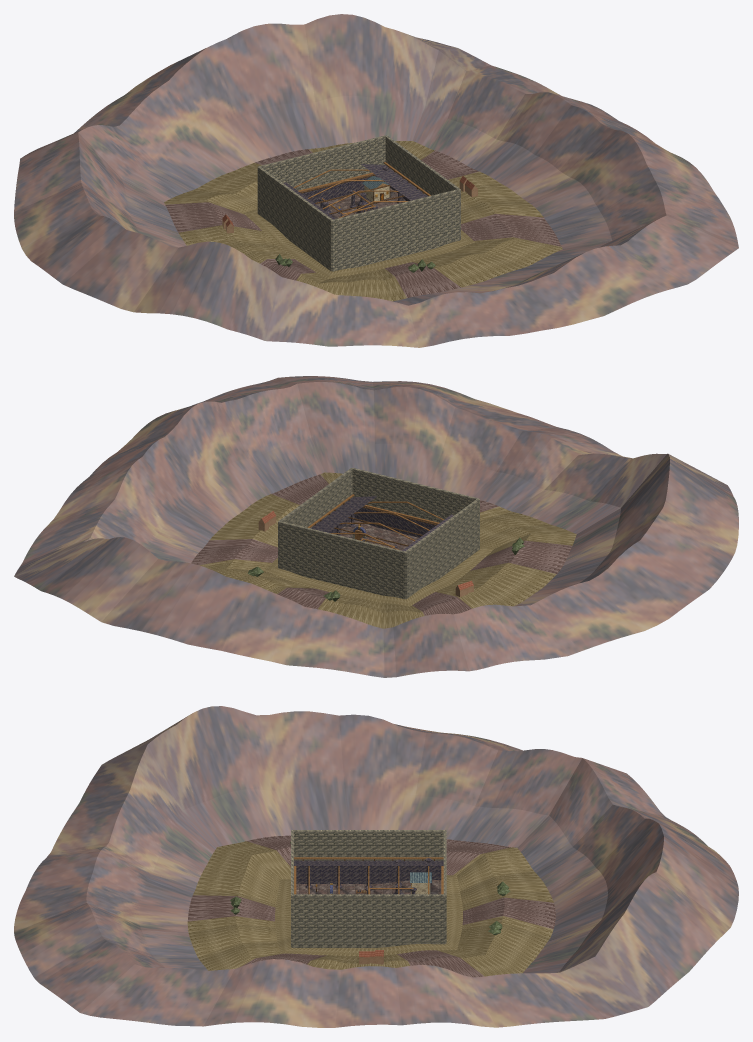
Rendered from CastingBed.fbx.
The picture shows the model from 3 angles, top to bottom: view 1: azimuth 30°, elevation 25°; view 2: azimuth 150°, elevation 25°; view 3: azimuth 270°, elevation 25°; orthographic projection. The views are drawn at different scales.
Parts seen in each view (by area): view 1: Surroundings, C_Solids, Rim, Set, Terrain; view 2: Surroundings, C_Solids, Rim, Terrain; view 3: Surroundings, C_Solids, Rim, Terrain, Set.
Part boxes in pixels (left/top/right/bottom): Surroundings: left=14, top=14, right=738, bottom=347; C_Solids: left=257, top=135, right=460, bottom=271; Rim: left=283, top=162, right=430, bottom=219; Set: left=319, top=166, right=402, bottom=216; Terrain: left=316, top=188, right=405, bottom=218; Surroundings: left=14, top=376, right=738, bottom=677; C_Solids: left=278, top=468, right=479, bottom=599; Rim: left=307, top=494, right=453, bottom=551; Terrain: left=335, top=520, right=418, bottom=550; Surroundings: left=14, top=706, right=738, bottom=1027; C_Solids: left=291, top=830, right=446, bottom=947; Rim: left=294, top=857, right=443, bottom=894; Terrain: left=296, top=880, right=441, bottom=894; Set: left=305, top=858, right=431, bottom=894.
Bounding box in the file's own units: 19160 × 3161 × 19401.
